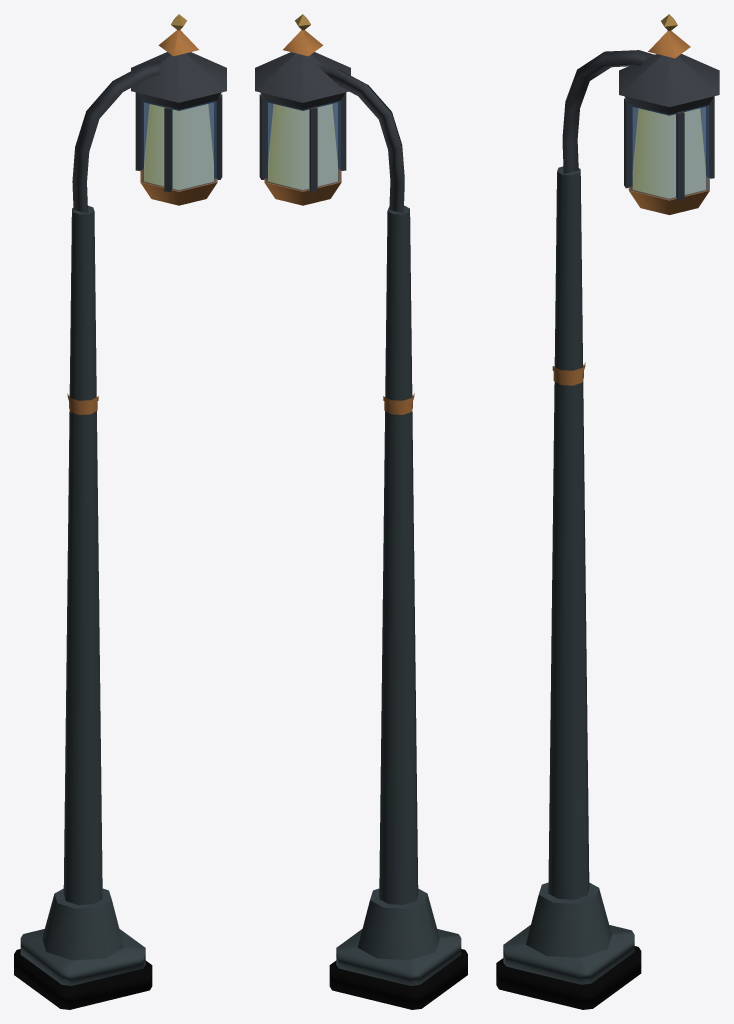
The model's file is classic-street-lamp.glb.
3 views of the same model, side by side, from view 1: azimuth 30°, elevation 25°; view 2: azimuth 150°, elevation 25°; view 3: azimuth 330°, elevation 25° (orthographic). The views are drawn at different scales.
Parts seen in each view (by area): view 1: Merged_prop-body, Merged_city-metal-dark, Merged_city-glass-surface, Merged_city-lamp-lens, Merged_prop-body-deep, Merged_prop-accent, Merged_city-metal-dark-surface; view 2: Merged_prop-body, Merged_city-metal-dark, Merged_city-glass-surface, Merged_city-lamp-lens, Merged_prop-body-deep, Merged_prop-accent, Merged_city-metal-dark-surface; view 3: Merged_prop-body, Merged_city-metal-dark, Merged_city-glass-surface, Merged_city-lamp-lens, Merged_prop-body-deep, Merged_prop-accent, Merged_city-metal-dark-surface.
Boxes of the visible parts, x1,y1,x2,y2 form: Merged_prop-body: [20, 205, 145, 985]; Merged_city-metal-dark: [72, 52, 226, 213]; Merged_city-glass-surface: [141, 101, 216, 191]; Merged_city-lamp-lens: [144, 104, 213, 189]; Merged_prop-body-deep: [14, 949, 152, 1009]; Merged_prop-accent: [67, 30, 217, 414]; Merged_city-metal-dark-surface: [135, 92, 222, 192]; Merged_prop-body: [336, 205, 461, 985]; Merged_city-metal-dark: [255, 52, 404, 213]; Merged_city-glass-surface: [265, 101, 340, 191]; Merged_city-lamp-lens: [268, 104, 337, 189]; Merged_prop-body-deep: [329, 949, 467, 1009]; Merged_prop-accent: [264, 30, 414, 414]; Merged_city-metal-dark-surface: [259, 92, 346, 192]; Merged_prop-body: [503, 166, 634, 984]; Merged_city-metal-dark: [562, 50, 719, 173]; Merged_city-glass-surface: [629, 105, 708, 199]; Merged_city-lamp-lens: [633, 108, 705, 198]; Merged_prop-body-deep: [496, 946, 641, 1009]; Merged_prop-accent: [552, 31, 709, 385]; Merged_city-metal-dark-surface: [624, 96, 714, 200].
Size of what is drawn, in the model's own units: 1.03 by 4.89 by 0.5.
